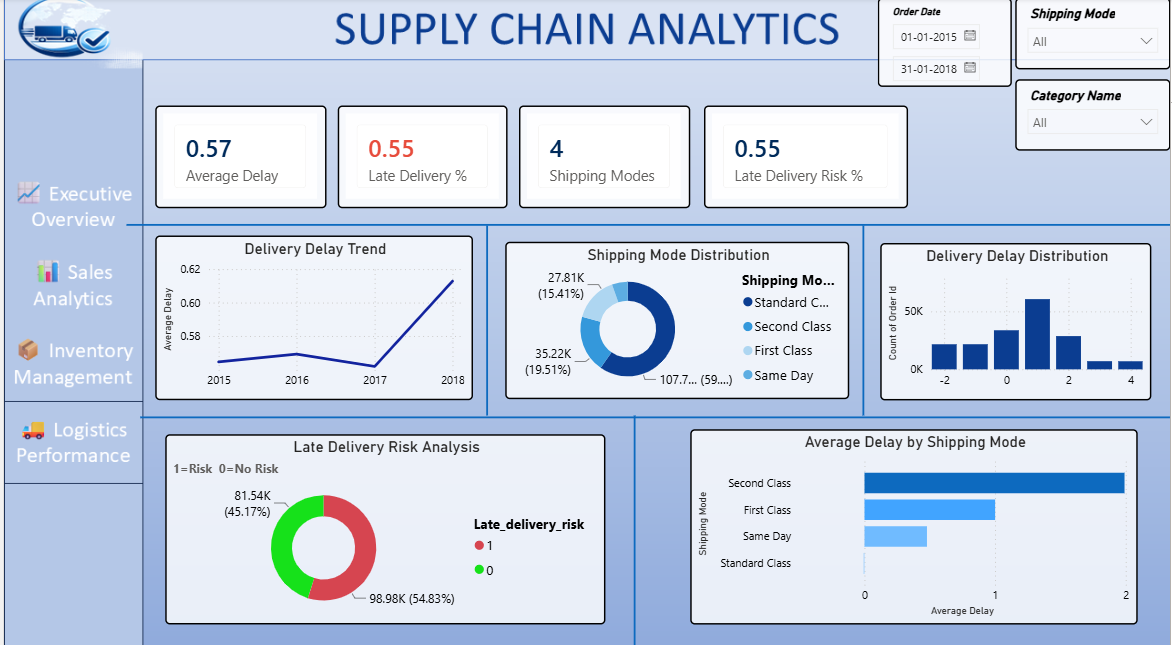

The page's visual inventory and layout, read from the dashboard file:
{"tool":"powerbi","page":{"name":"Logistic Performance  ","canvas":[1280,720],"ordinal":3},"visuals":[{"type":"cardVisual","fields":{"Data":["Measures (2).Average Delay"]},"box":[166,118,188,112.5],"z":0},{"type":"cardVisual","fields":{"Data":["Dim_Customer.Shipping Modes"]},"box":[565.4,118,188,112.5],"z":1000},{"type":"cardVisual","fields":{"Data":["Measures (2).Late Delivery %"]},"box":[366.4,118,186.6,112.5],"z":2000},{"type":"cardVisual","fields":{"Data":["Measures (2).Late Delivery Risk %"]},"box":[768.4,118,223.7,112.5],"z":3000},{"type":"shape","box":[149.6,441.9,1130.7,37],"z":10000},{"type":"slicer","fields":{"Values":["Dim_Date.order date (DateOrders)"]},"box":[959.2,0,146.8,97.4],"z":10001},{"type":"slicer","fields":{"Values":["Fact_Orders.Shipping Mode"]},"box":[1109.8,0,170.2,78.2],"z":10002},{"type":"slicer","fields":{"Values":["Dim_Product.Category Name"]},"box":[1109.8,89.2,170.2,78.2],"z":10003},{"type":"lineChart","title":"Delivery Delay Trend","fields":{"Category":["Dim_Date.order date (DateOrders).Variation.Date Hierarchy.Year","Dim_Date.order date (DateOrders).Variation.Date Hierarchy.Quarter","Dim_Date.order date (DateOrders).Variation.Date Hierarchy.Month","Dim_Date.order date (DateOrders).Variation.Date Hierarchy.Day"],"Y":["Measures (2).Average Delay"]},"box":[166,260.7,348.5,181.1],"z":10004},{"type":"shape","box":[134.5,230.5,1145.8,37],"z":10005},{"type":"shape","box":[514.6,249.7,31.6,208.6],"z":10006},{"type":"donutChart","title":"Shipping Mode Distribution","fields":{"Y":["CountNonNull(Fact_Orders.Order Id)"],"Category":["Fact_Orders.Shipping Mode"]},"box":[550.3,267.6,377.4,172.9],"z":10007},{"type":"shape","box":[927.6,249.7,31.6,208.6],"z":10008},{"type":"clusteredColumnChart","title":"Delivery Delay Distribution","fields":{"Y":["CountNonNull(Fact_Orders.Order Id)"],"Category":["Fact_Orders.Delivery_Delay"]},"box":[961.9,269,297.8,172.9],"z":10009},{"type":"donutChart","title":"Late Delivery Risk Analysis","fields":{"Y":["CountNonNull(Fact_Orders.Order Id)"],"Category":["Fact_Orders.Late_delivery_risk"]},"box":[177,478.9,483,208.6],"z":10010},{"type":"shape","box":[676.5,458.3,31.6,262.1],"z":10011},{"type":"clusteredBarChart","title":"Average Delay by Shipping Mode","fields":{"Category":["Fact_Orders.Shipping Mode"],"Y":["Measures (2).Average Delay"]},"box":[753.3,473.4,491.3,214.1],"z":10012},{"type":"actionButton","box":[19.2,277.2,119.4,67.2],"z":10013},{"type":"actionButton","box":[11,188,135.8,82.3],"z":10014},{"type":"actionButton","box":[9.6,359.5,137.2,83.7],"z":10015}]}

Visuals, with their boxes in screenshot pixels (x1, y1, x2, y2):
cardVisual - Measures (2).Average Delay: (152,102,324,205)
cardVisual - Dim_Customer.Shipping Modes: (517,102,689,205)
cardVisual - Measures (2).Late Delivery %: (335,102,506,205)
cardVisual - Measures (2).Late Delivery Risk %: (703,102,907,205)
shape: (137,398,1171,432)
slicer - Dim_Date.order date (DateOrders): (877,0,1011,83)
slicer - Fact_Orders.Shipping Mode: (1015,0,1171,65)
slicer - Dim_Product.Category Name: (1015,75,1171,147)
"Delivery Delay Trend" lineChart: (152,232,470,398)
shape: (123,205,1171,239)
shape: (471,222,499,413)
"Shipping Mode Distribution" donutChart: (503,239,848,397)
shape: (848,222,877,413)
"Delivery Delay Distribution" clusteredColumnChart: (880,240,1152,398)
"Late Delivery Risk Analysis" donutChart: (162,432,604,623)
shape: (619,413,648,644)
"Average Delay by Shipping Mode" clusteredBarChart: (689,427,1138,623)
actionButton: (18,247,127,309)
actionButton: (10,166,134,241)
actionButton: (9,323,134,399)
